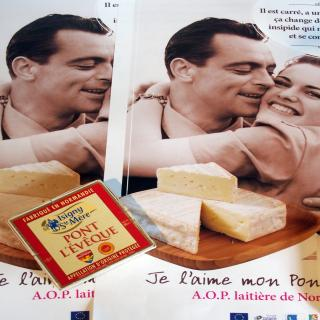Cheese: (118, 186, 289, 256), (154, 160, 238, 204), (0, 192, 55, 252), (0, 158, 79, 199)
